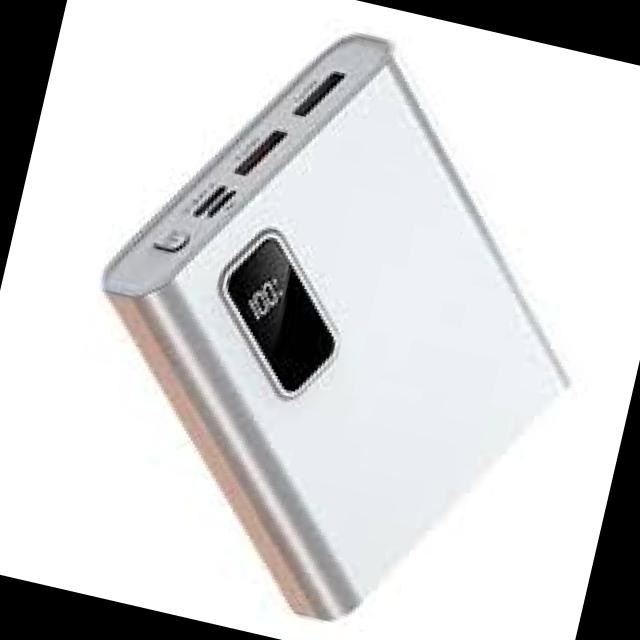portable-charger: (34, 0, 639, 640)
